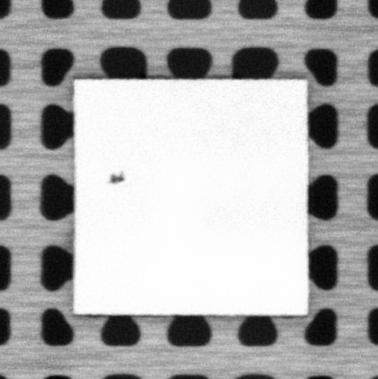DIE_INK: (107, 171, 126, 186)
